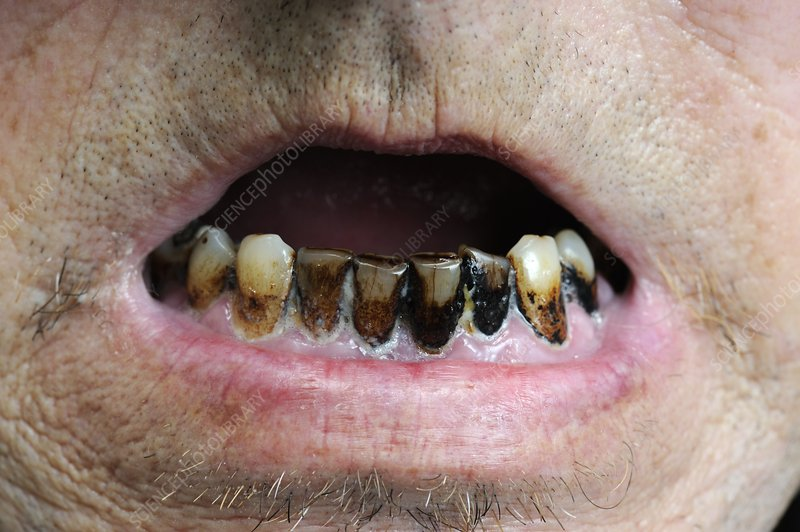decay: (234, 219, 293, 336), (404, 245, 461, 357), (518, 226, 565, 337), (466, 241, 517, 343), (297, 239, 347, 343), (349, 248, 400, 347), (558, 222, 605, 315), (186, 230, 230, 311)
